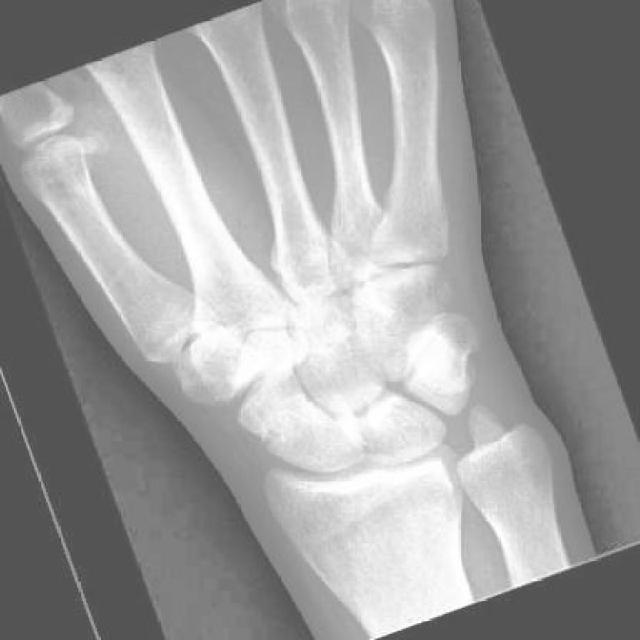Fracture: (237, 388, 323, 459)
